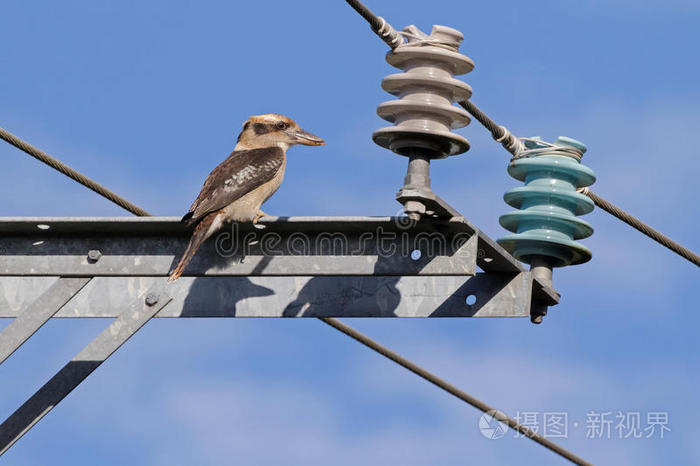insulator: (369, 39, 469, 152), (496, 150, 597, 258)
